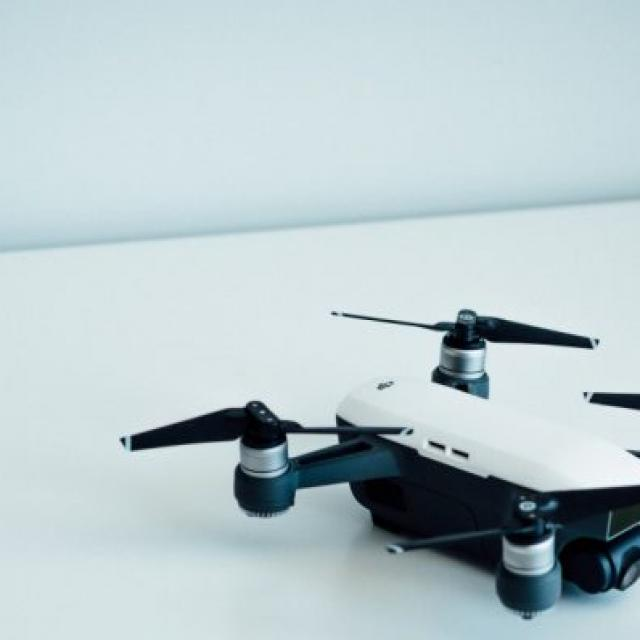drone: (170, 280, 640, 622)
